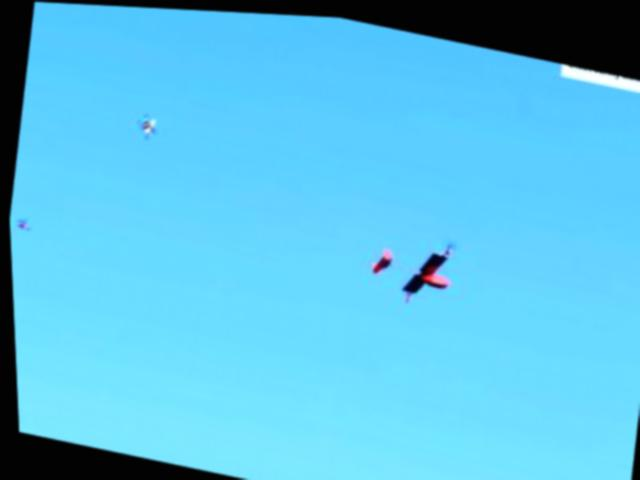uav: (359, 211, 468, 308)
